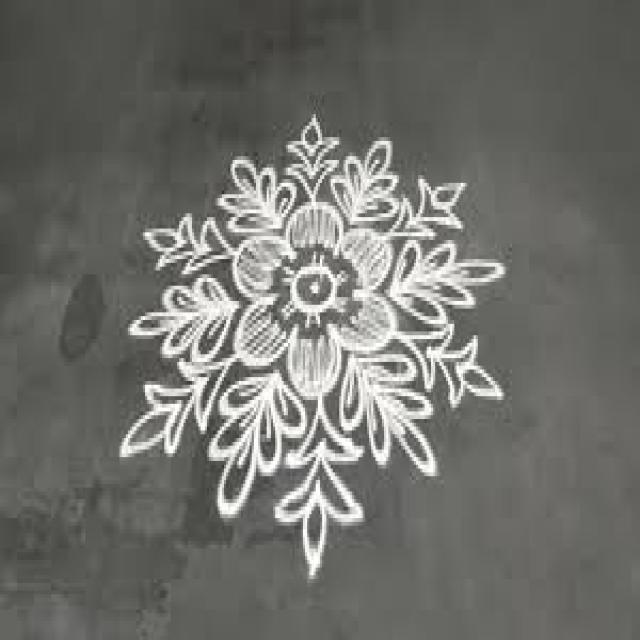rangoli: (118, 117, 507, 592)
